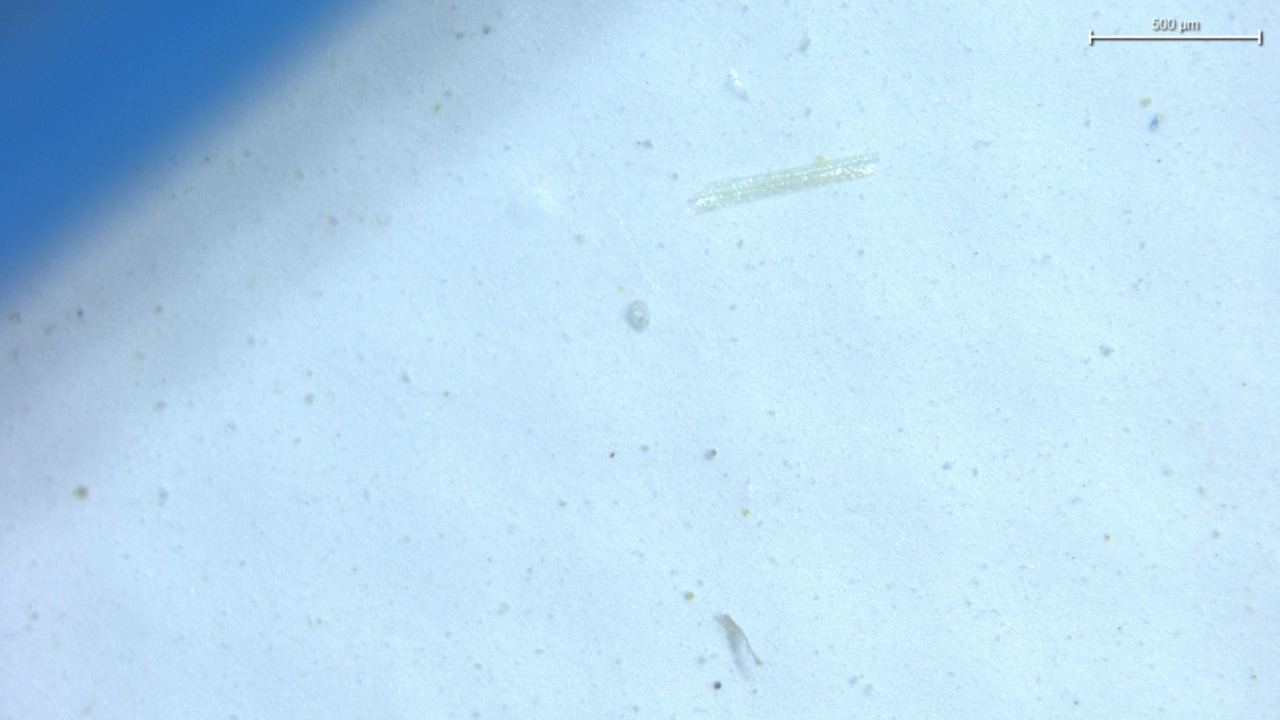microplastic_fragment: (625, 300, 650, 332)
